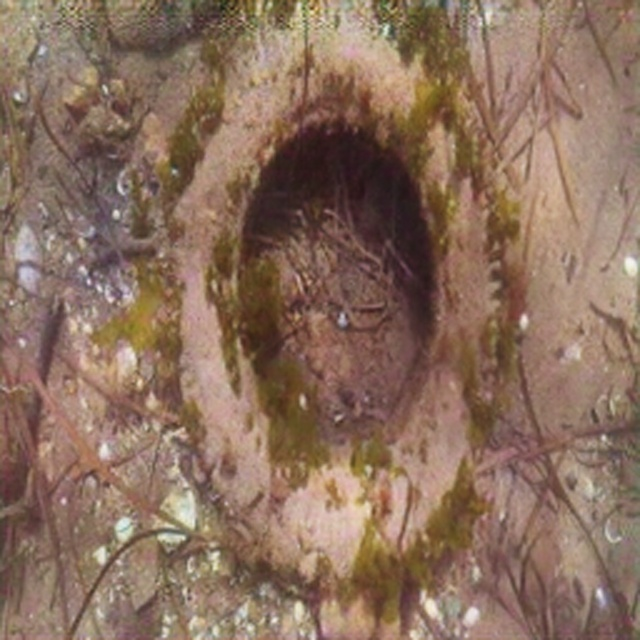mine: (173, 27, 504, 598)
